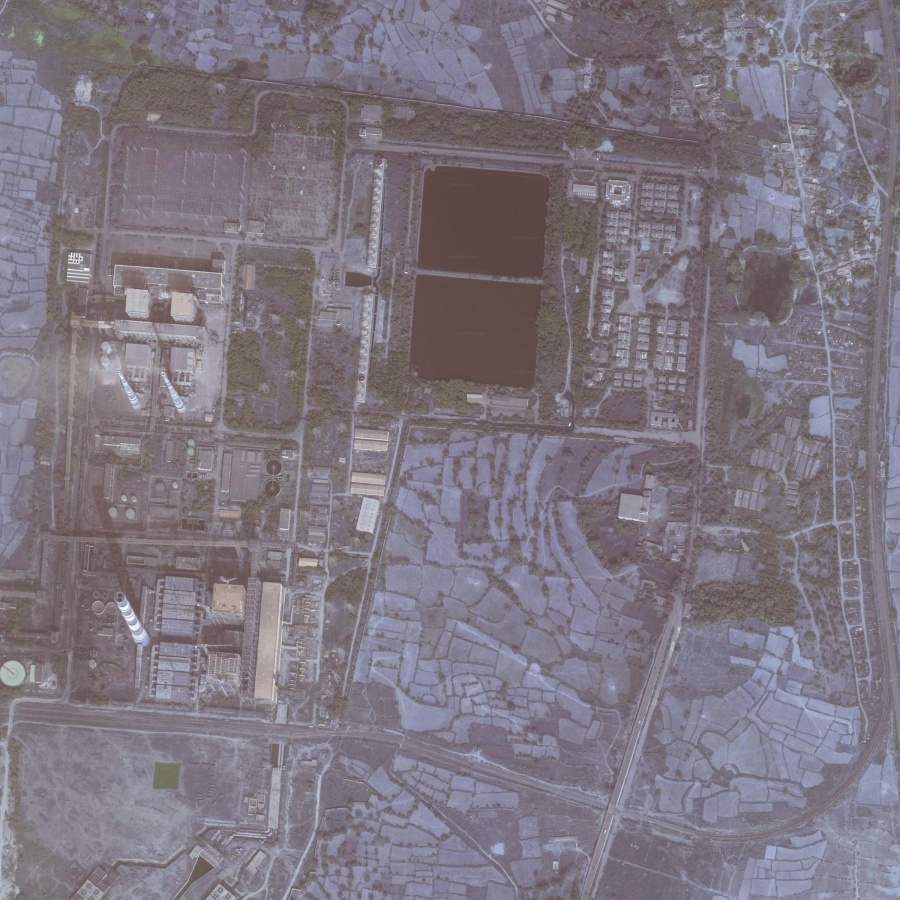PowerPlant: (70, 128, 561, 711)
